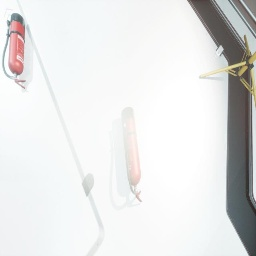FireExtinguisher ]: (121, 107, 142, 202), (2, 13, 26, 89)
